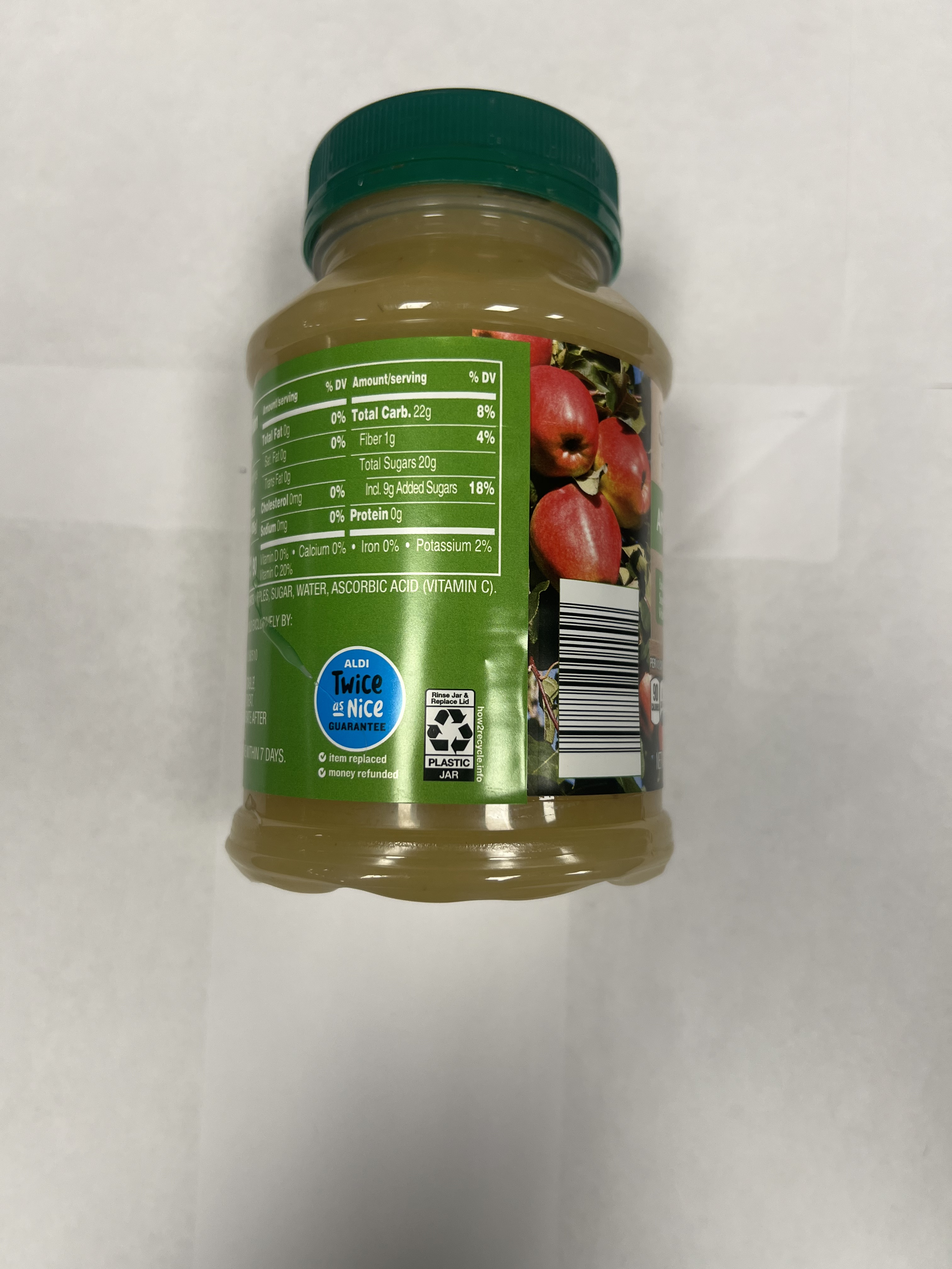packaged: (221, 85, 679, 911)
